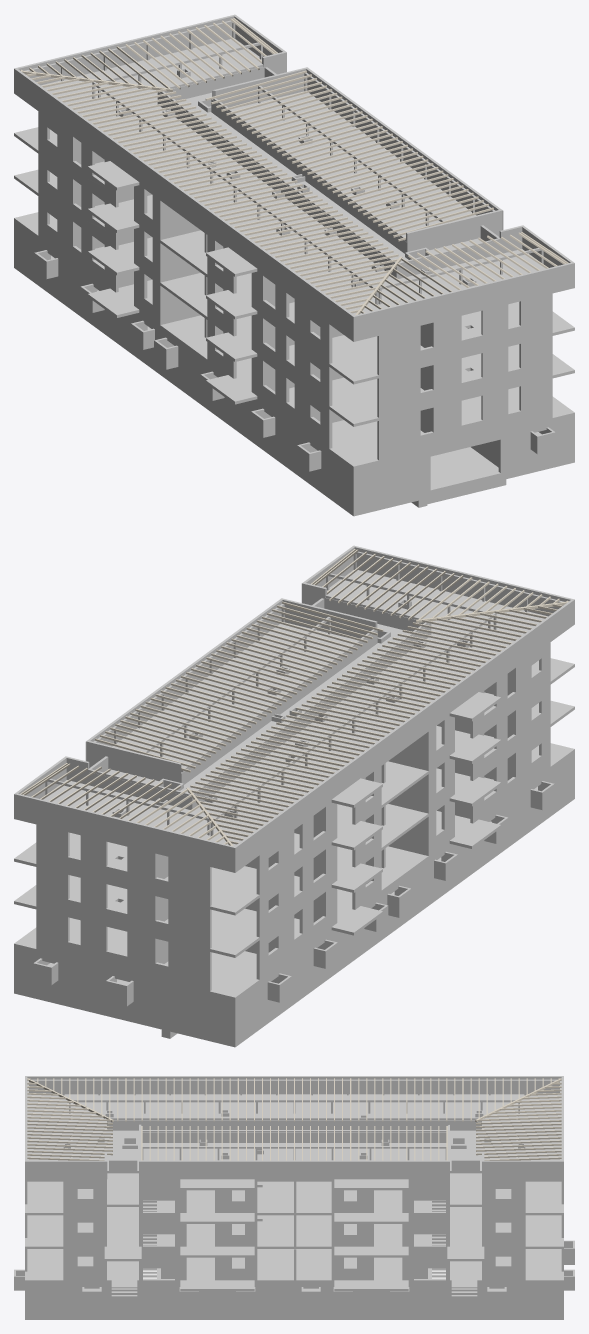
File: koprivnca-3d-model.glb
3 views of the same model, one above another, from view 1: azimuth 30°, elevation 25°; view 2: azimuth 150°, elevation 25°; view 3: azimuth 270°, elevation 25° (orthographic). The views are drawn at different scales.
Visible parts, largest first — view 1: Plo.009, Zid.163, Plo.003, Plo.007, Plo.005, Zid.217, 3D_element.160, Zid.097, Zid.169, Zid.312, Zid.193, Zid.216 (+27 smaller); view 2: Plo.009, Zid.163, Plo.003, Plo.005, Plo.007, Zid.217, Zid.095, Zid.179, Zid.327, Zid.203, Zid.222, 3D_element.160 (+28 smaller); view 3: Plo.009, Plo.005, Zid.096, Plo.007, Plo.003, Zid.217, Zid.014, Zid.007, 3D_element.160, Zid.006, Zid.187, Zid.189 (+22 smaller).
Boxes of the visible parts, x1,y1,x2,y2 form: Plo.009: (14, 39, 574, 341); Zid.163: (14, 221, 353, 508); Plo.003: (14, 212, 574, 469); Plo.007: (14, 127, 574, 384); Plo.005: (14, 169, 574, 426); Zid.217: (14, 68, 354, 338); 3D_element.160: (14, 255, 574, 516); Zid.097: (353, 415, 574, 508); Zid.169: (377, 378, 552, 460); Zid.312: (377, 293, 552, 375); Zid.193: (377, 336, 552, 417); Zid.216: (353, 262, 574, 338); Plo.009: (14, 570, 574, 872); Zid.163: (235, 752, 574, 1039); Plo.003: (14, 743, 574, 1000); Plo.005: (14, 700, 574, 957); Plo.007: (14, 658, 574, 915); Zid.217: (234, 599, 574, 869); Zid.095: (14, 946, 235, 1039); Zid.179: (36, 909, 211, 991); Zid.327: (36, 824, 211, 906); Zid.203: (36, 867, 211, 948); Zid.222: (14, 793, 235, 869); 3D_element.160: (14, 786, 574, 1047); Plo.009: (25, 1094, 563, 1190); Plo.005: (25, 1200, 563, 1261); Zid.096: (25, 1282, 563, 1313); Plo.007: (25, 1144, 563, 1223); Plo.003: (25, 1234, 563, 1291); Zid.217: (25, 1076, 563, 1094); Zid.014: (139, 1160, 449, 1179); Zid.007: (107, 1120, 481, 1130); 3D_element.160: (25, 1268, 563, 1319); Zid.006: (142, 1132, 446, 1142); Zid.187: (139, 1249, 257, 1280); Zid.189: (331, 1249, 449, 1280).
Size of the model in its own units: 19.65 by 14.1 by 43.7.
